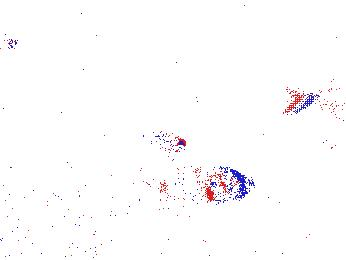X-ray fish: (155, 164, 254, 208)
red belly glassfish: (149, 131, 186, 151), (319, 131, 344, 148)
redtail glassfish: (281, 79, 346, 118), (1, 30, 21, 52)
